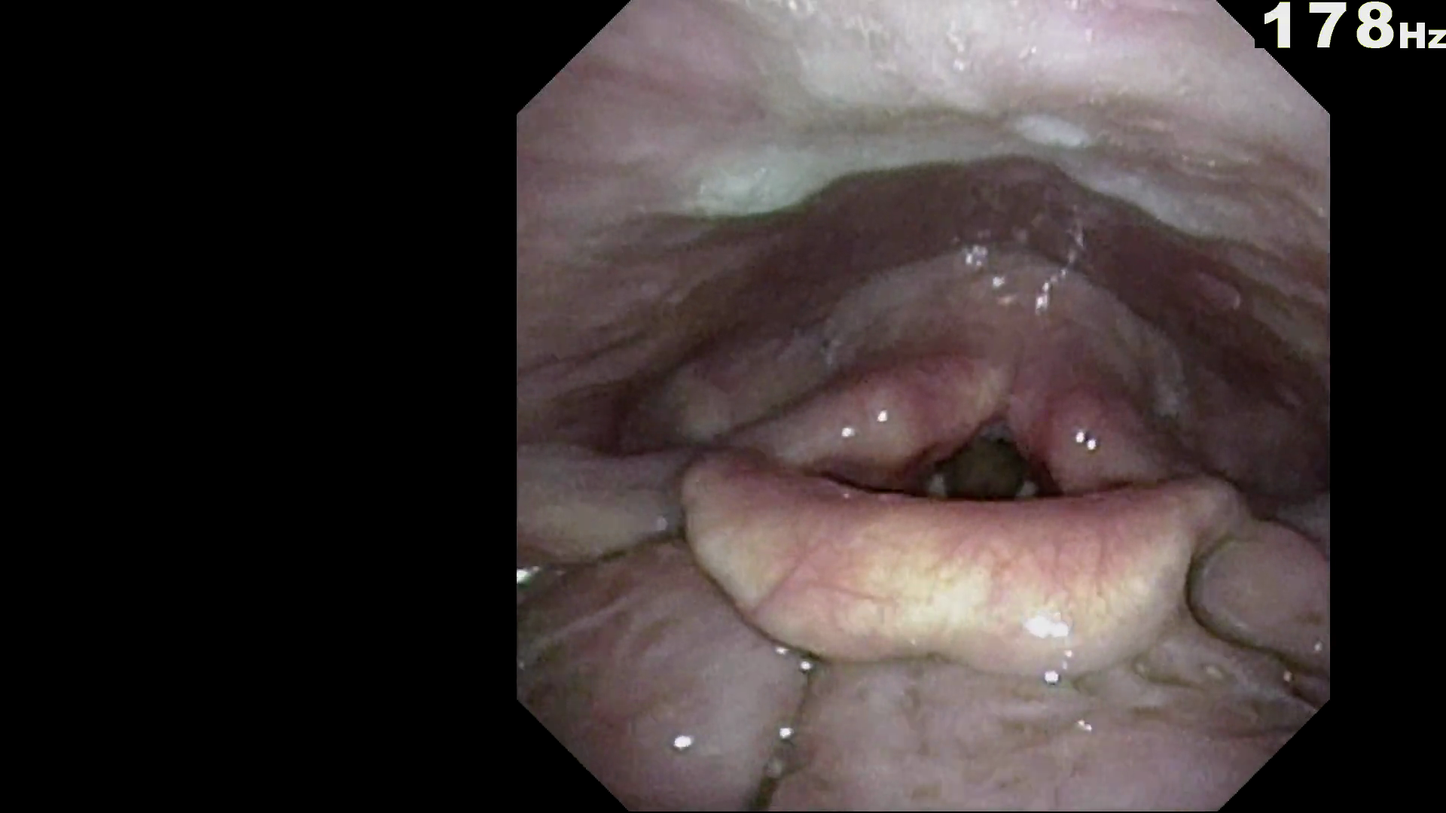epiglottis: (678, 478, 1222, 669)
trachea: (917, 435, 1065, 532)
